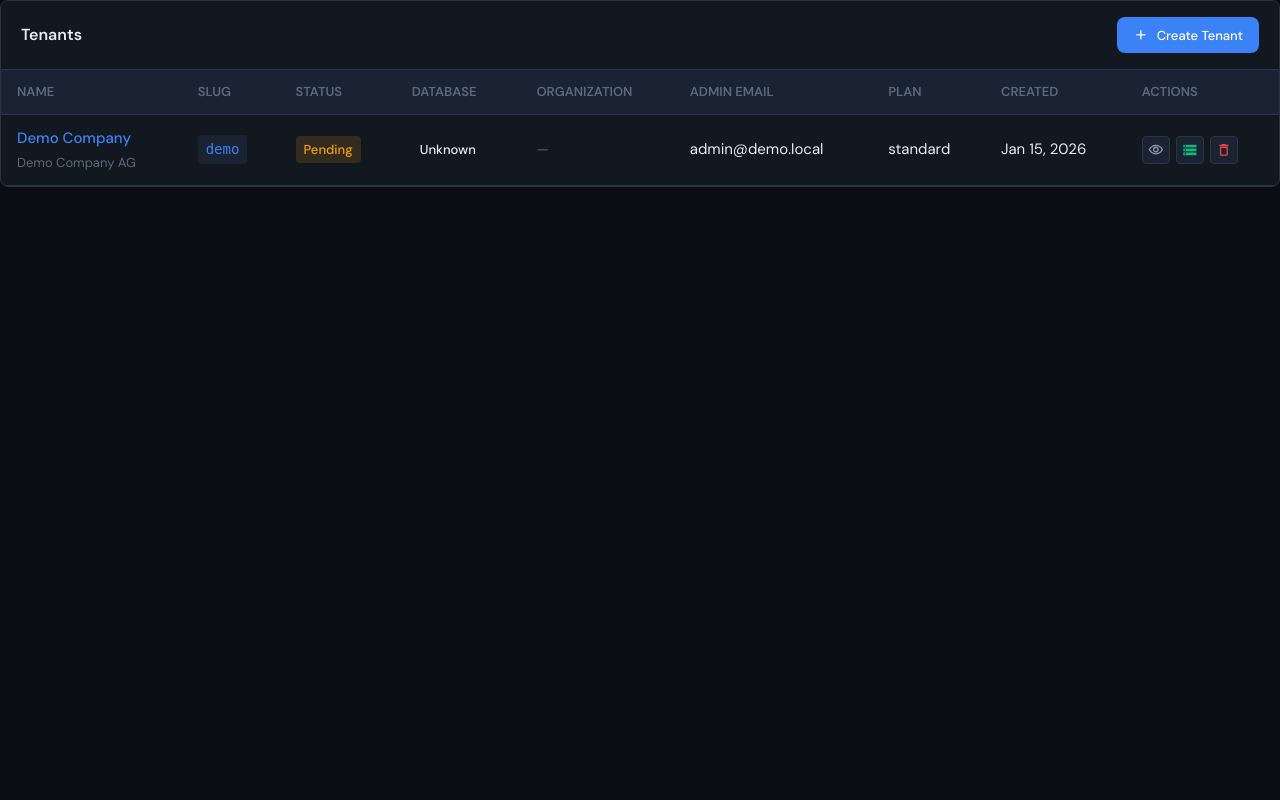
TenantList › cancelling the provision dialog provisions nothing
Click the button titled "Provision Database".
click(1190, 150)  # box x1=1176 y1=136 x2=1204 y2=164
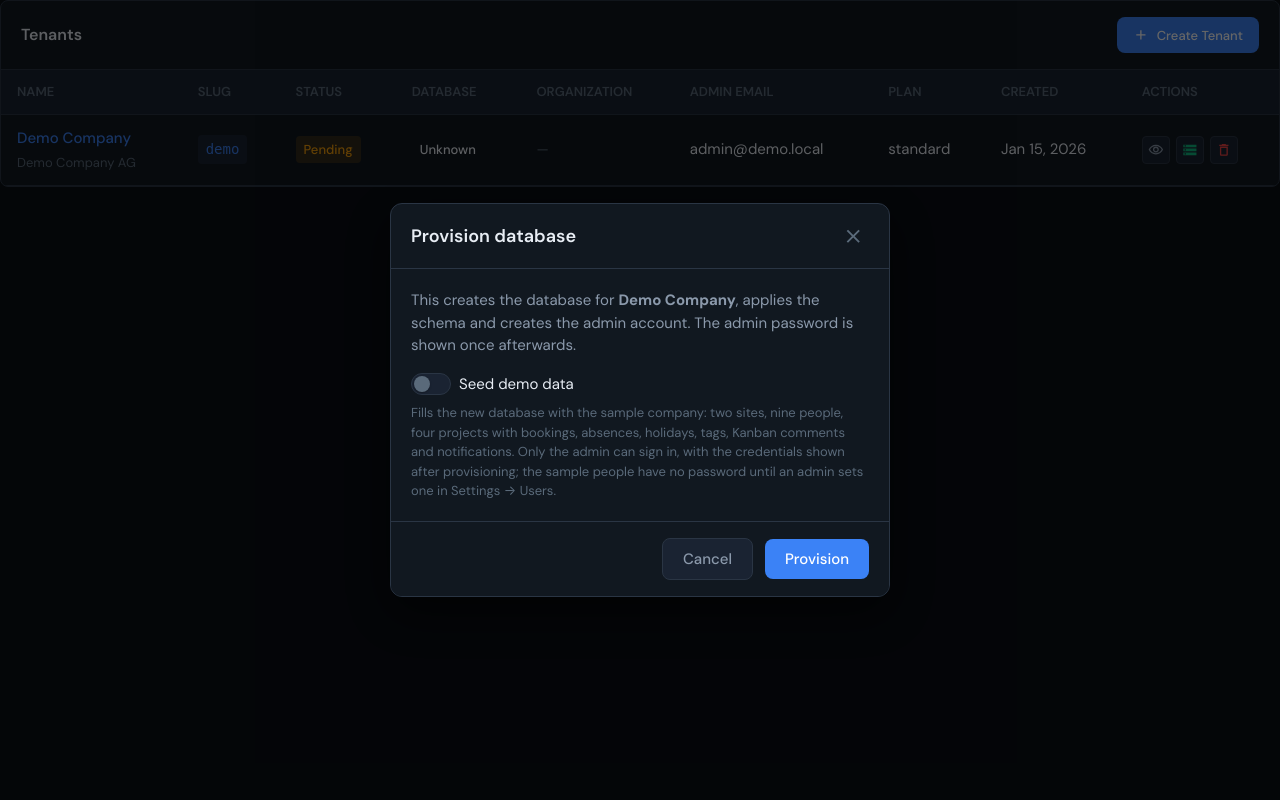
Click the button "Cancel".
click(708, 559)  # box x1=662 y1=538 x2=753 y2=580
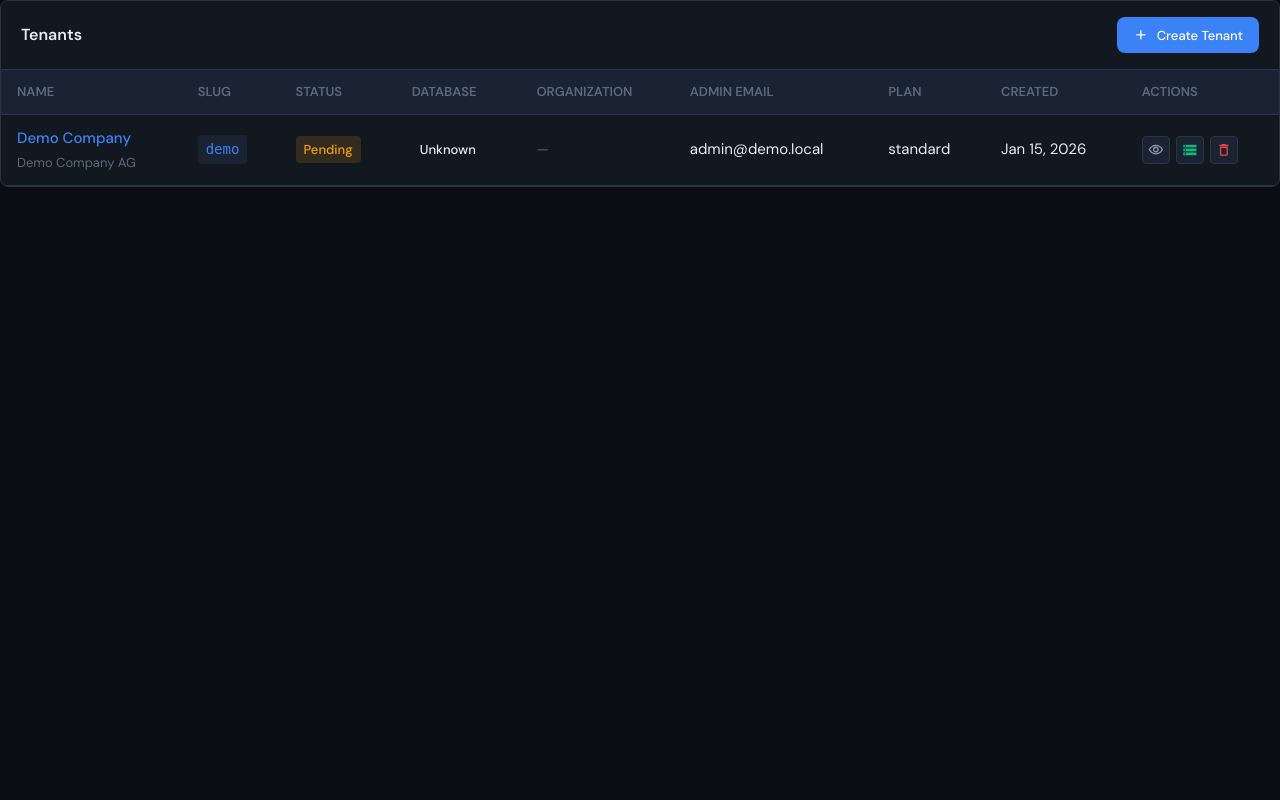
Result: the heading "Provision database" is gone
Click the button titled "Provision Database".
click(1190, 150)  # box x1=1176 y1=136 x2=1204 y2=164
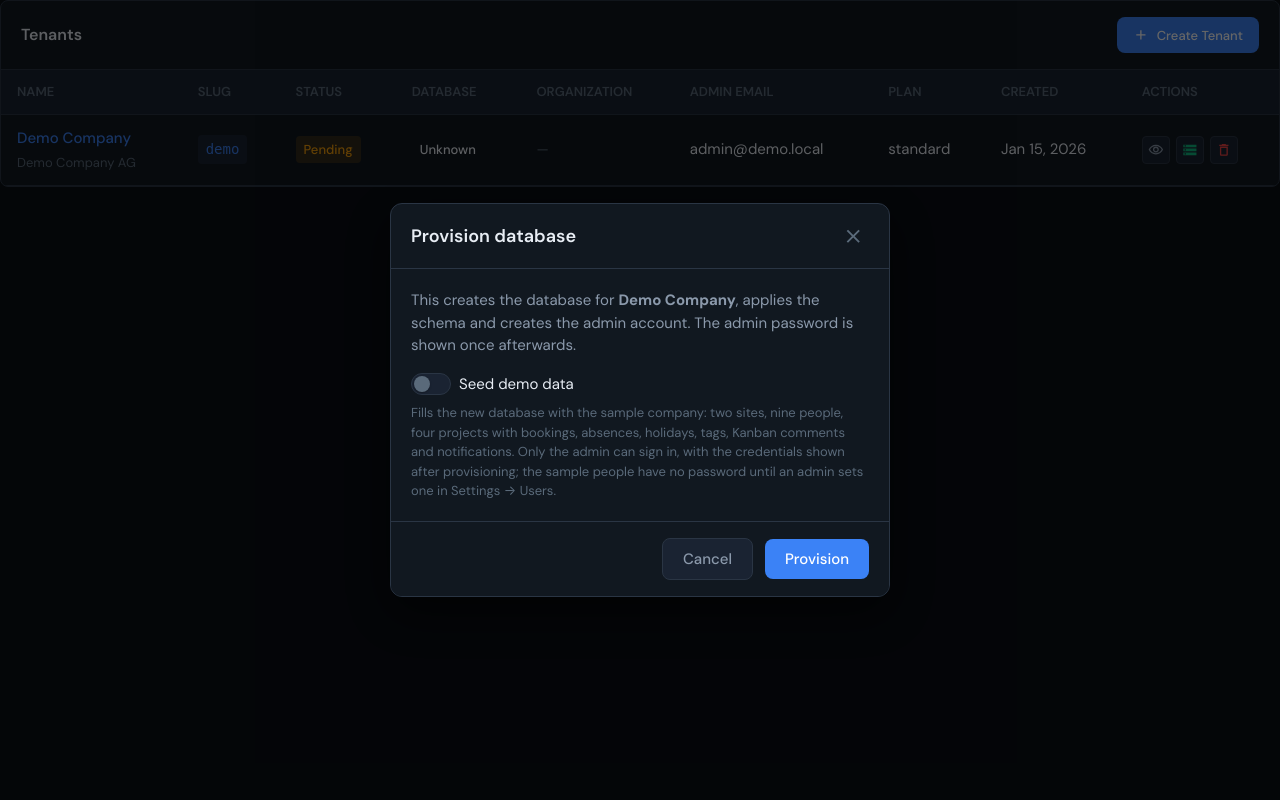
Press Escape
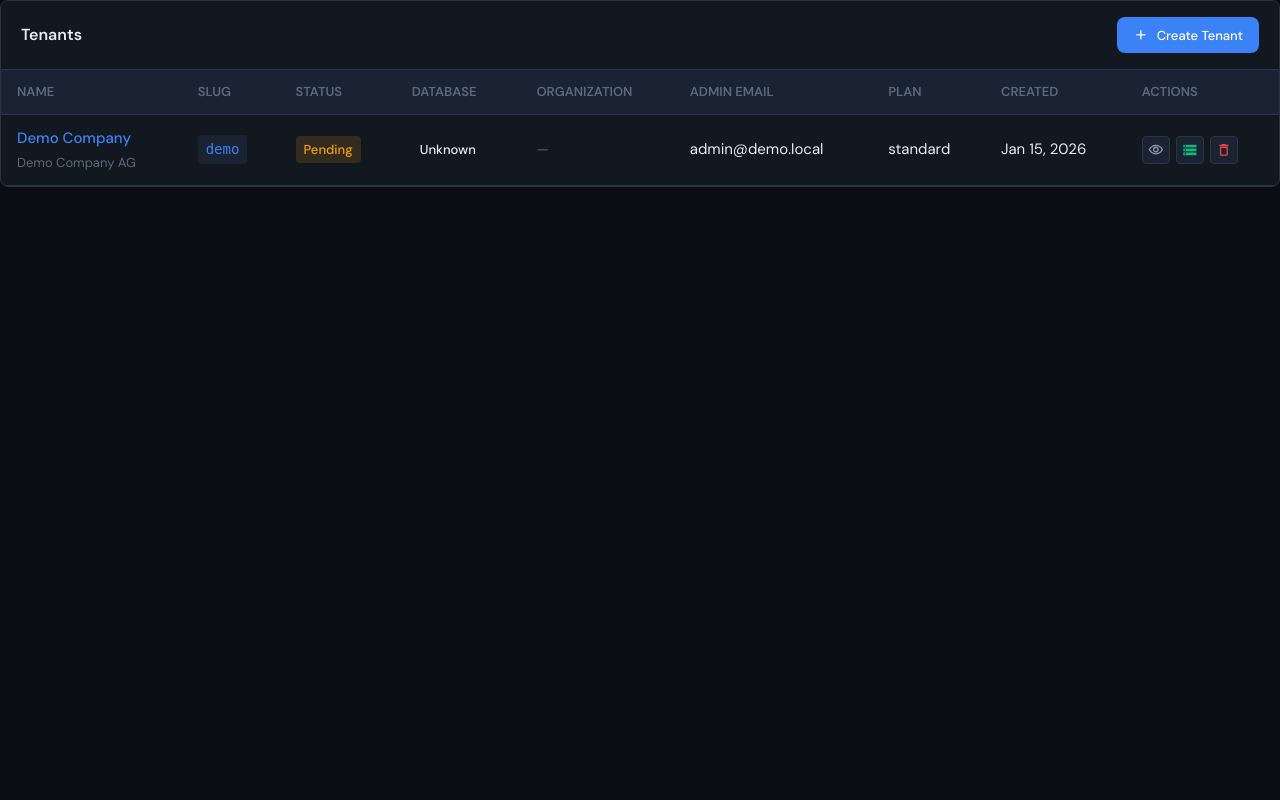
Result: the heading "Provision database" is gone
